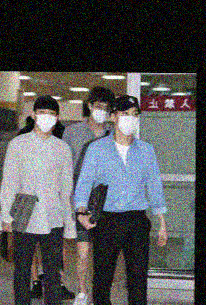with_mask: (115, 106, 139, 136), (34, 108, 57, 133), (89, 101, 111, 124)
